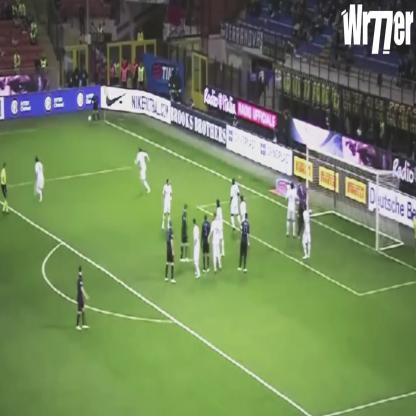corner kick: (47, 40, 130, 206)
